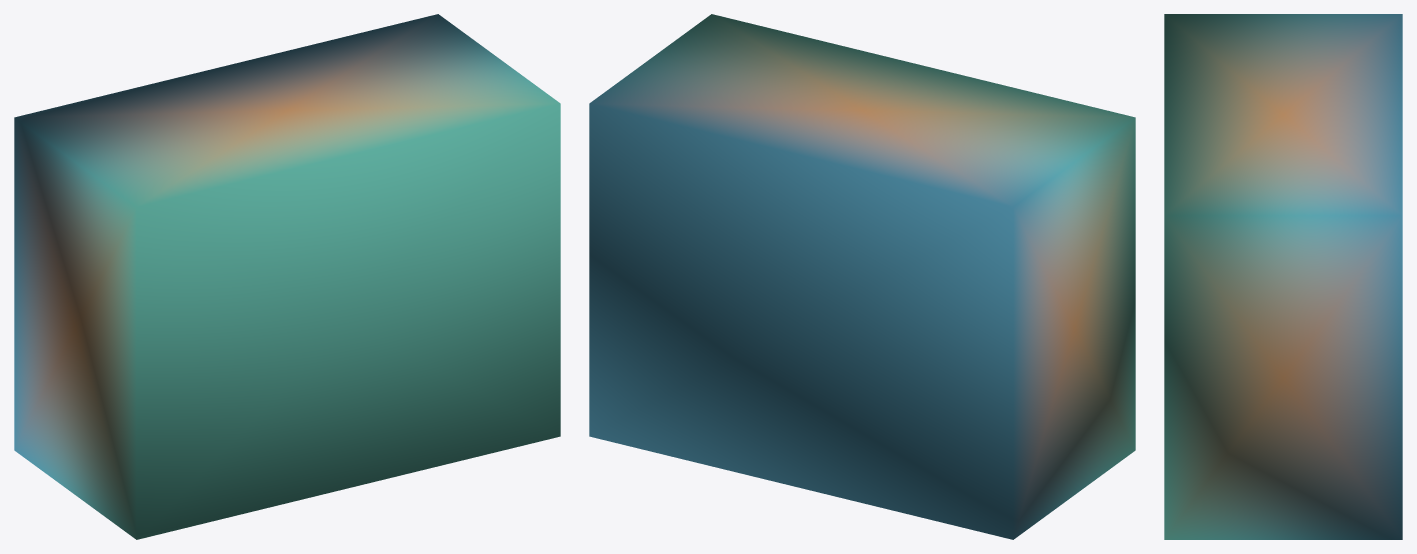
Rendered from x01_artifact.glb.
3 renders of one model, left to right at view 1: azimuth 30°, elevation 25°; view 2: azimuth 150°, elevation 25°; view 3: azimuth 270°, elevation 25°, orthographic. The views are drawn at different scales.
Visible parts, largest first — view 1: ToolboxSolid; view 2: ToolboxSolid; view 3: ToolboxSolid.
Part boxes in pixels (<box>): ToolboxSolid: <box>14,14,560,539</box>; ToolboxSolid: <box>589,14,1135,539</box>; ToolboxSolid: <box>1164,14,1402,539</box>.
Bounding box in the file's own units: 40 × 30 × 20.
